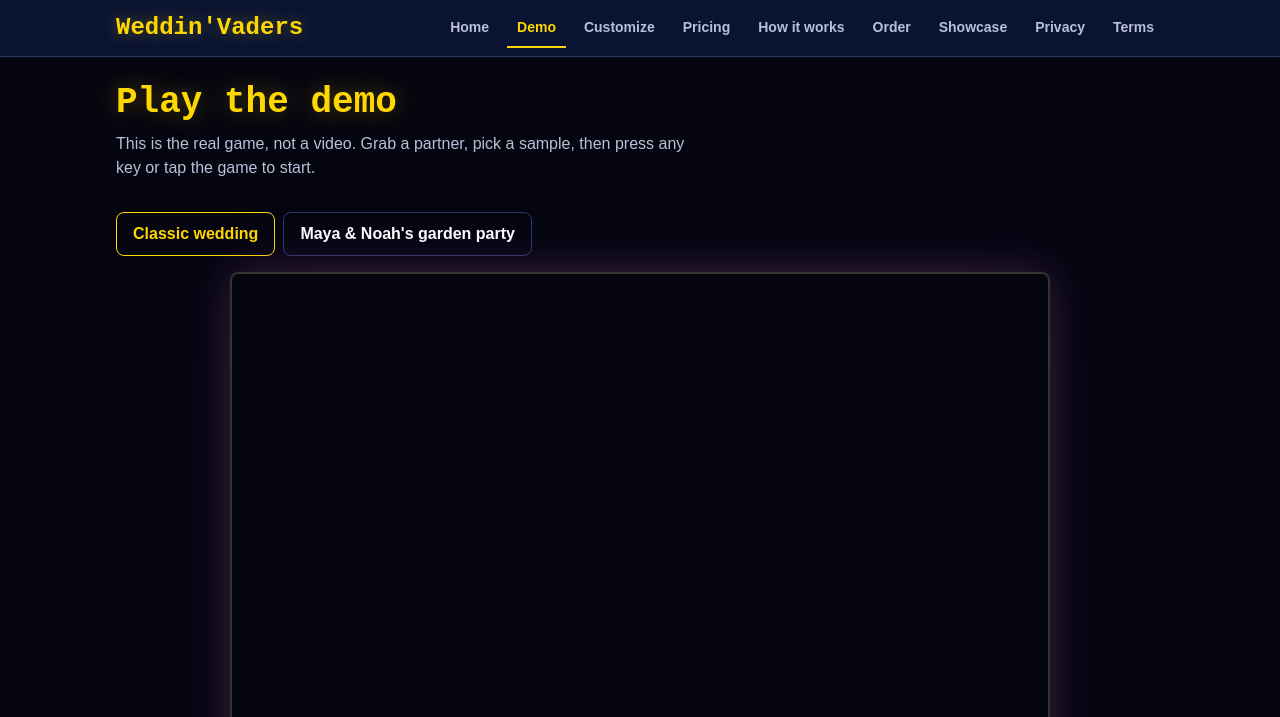
Test: DemoPage: copy and links › test_own_page_link
Later steps or results of the test are not shown.
Click the link "Maya & Noah's garden party". click: (408, 234)
box: [283,212,532,256]
(page scrolled)
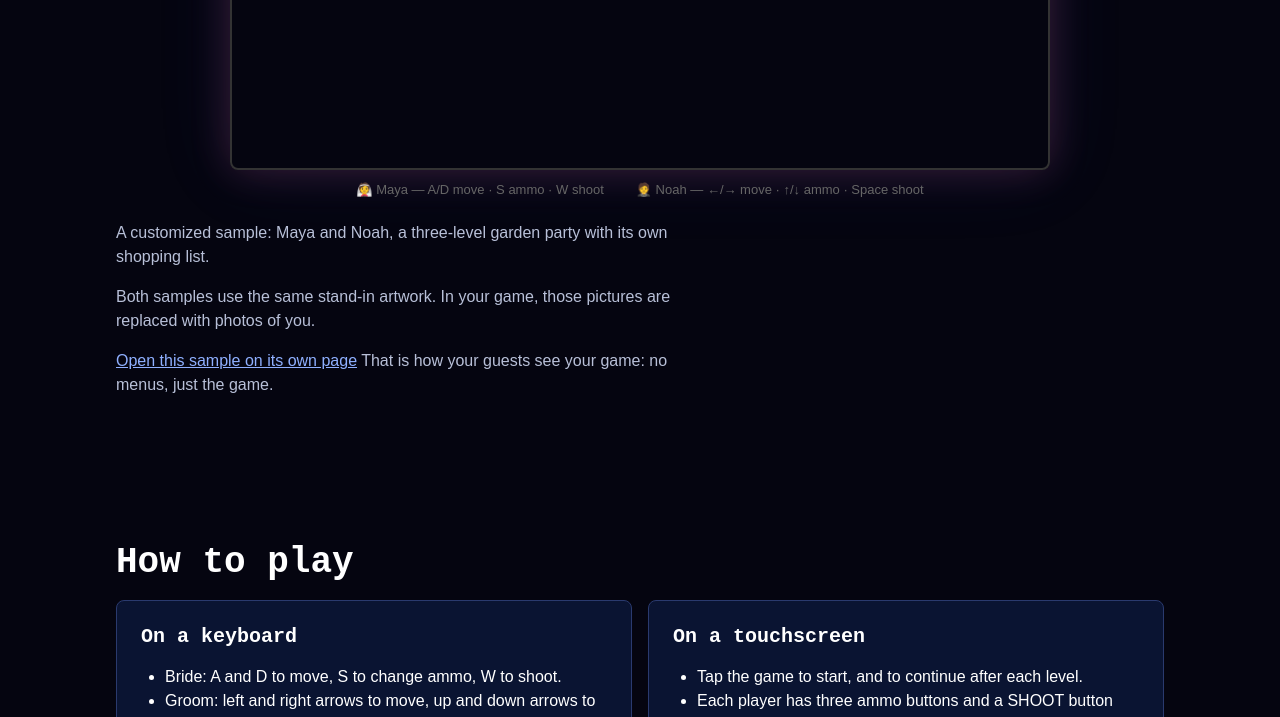
Expected: the link "Open this sample on its own page" has attribute href="/MayaAndNoah", [116,352,357,369]
